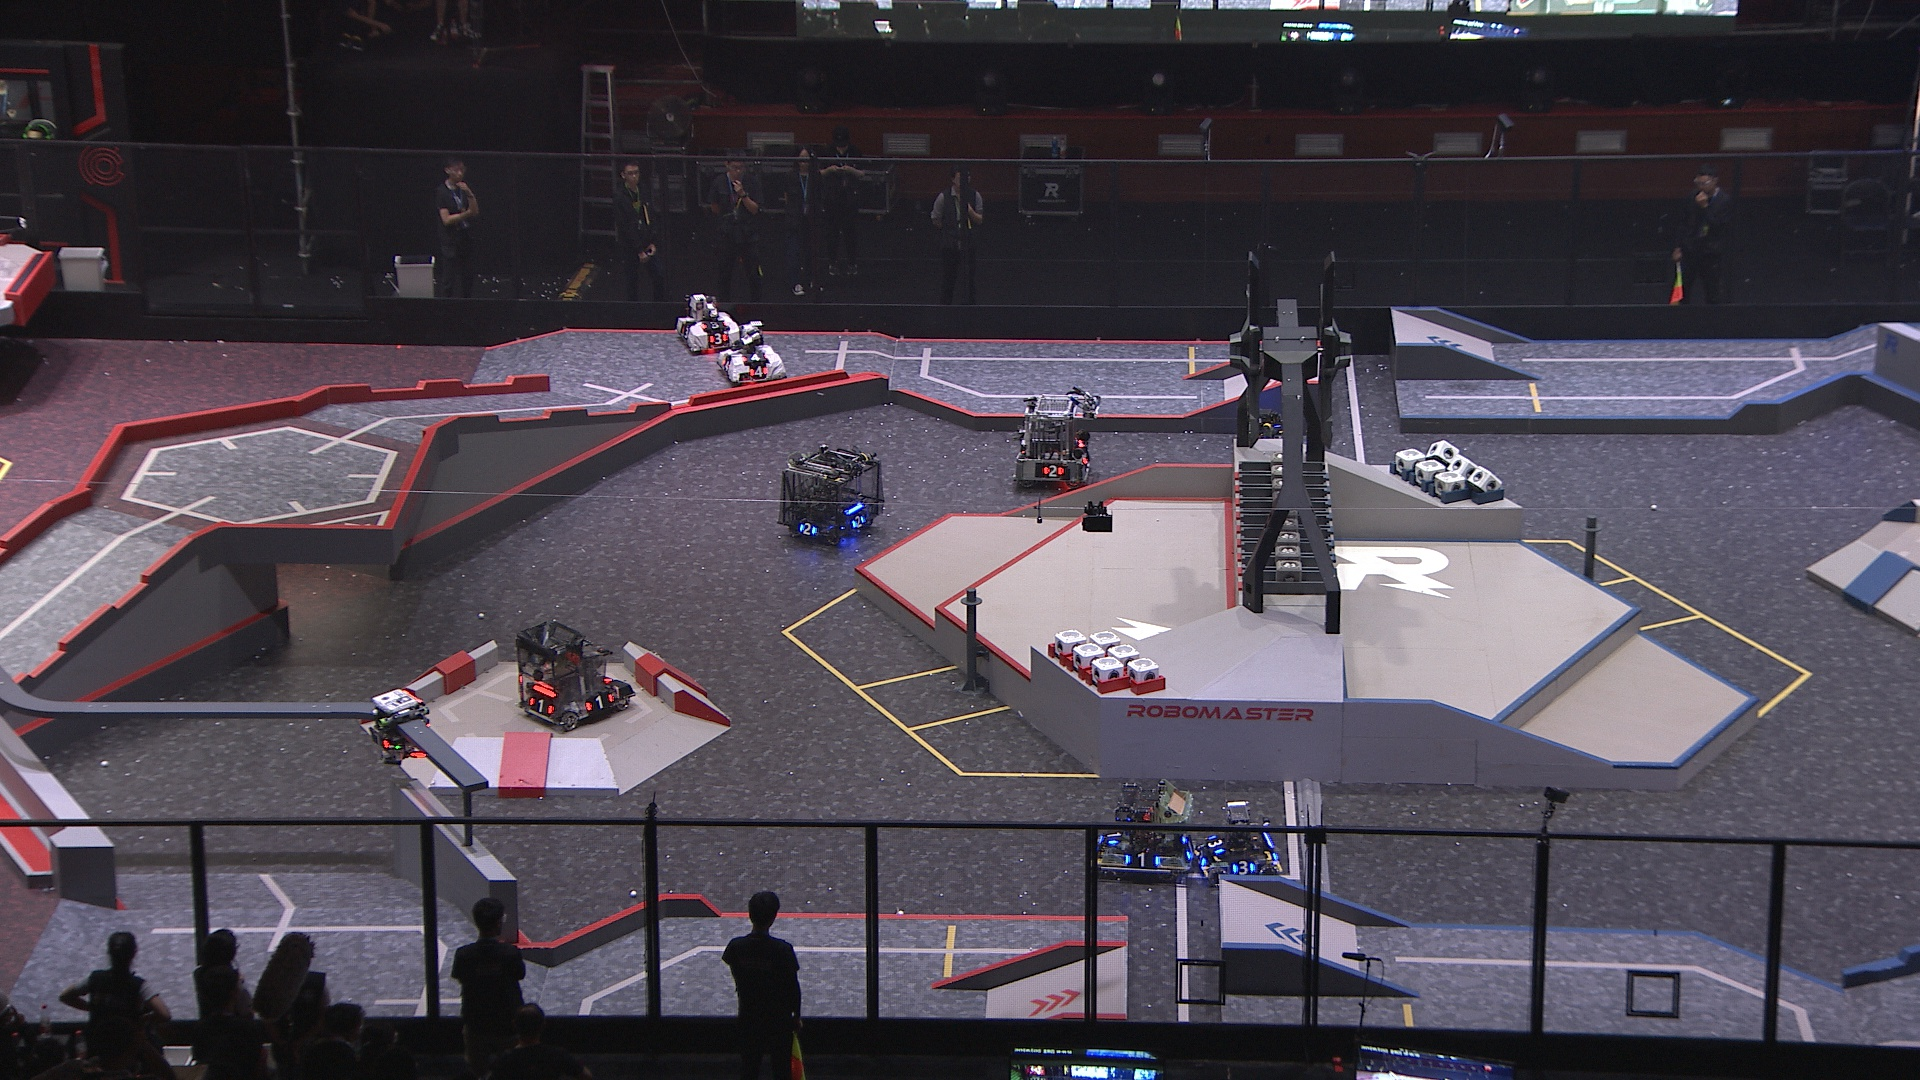armor: (1122, 851, 1162, 869), (582, 694, 615, 713), (526, 698, 556, 717), (367, 727, 392, 750), (1039, 462, 1065, 480), (1230, 858, 1258, 876), (741, 352, 770, 367), (699, 318, 727, 332), (1207, 836, 1226, 856), (799, 520, 820, 538), (1102, 831, 1124, 847), (709, 330, 731, 345), (1185, 835, 1197, 861), (749, 365, 771, 378), (849, 513, 868, 529), (1195, 849, 1207, 870), (678, 323, 688, 339)
car: (513, 617, 632, 732), (779, 436, 884, 551), (1091, 779, 1203, 885), (1013, 392, 1092, 491), (1193, 798, 1280, 887), (712, 314, 785, 386), (673, 290, 738, 353)
watcher: (363, 684, 429, 765)
